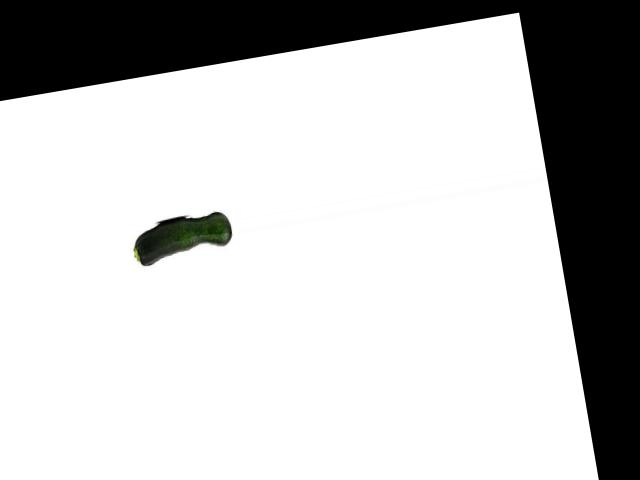cucumber: (128, 209, 234, 267)
